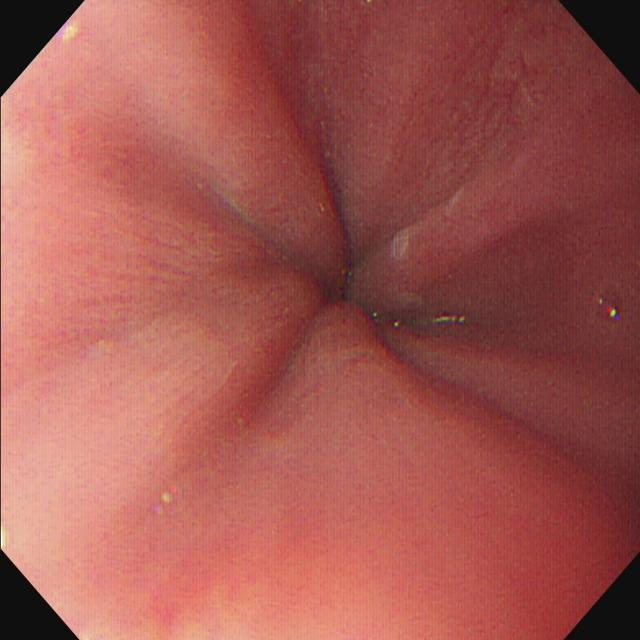I: (240, 171, 450, 387)
U: (607, 307, 624, 323)
